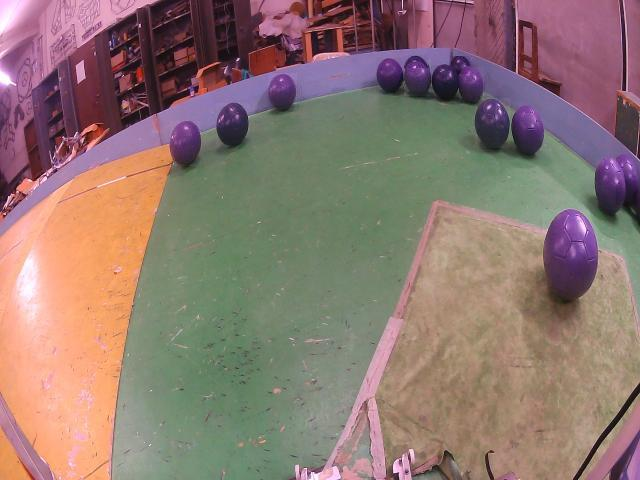jambhalya: (543, 210, 599, 300), (595, 158, 625, 215), (511, 105, 544, 155), (170, 121, 201, 166), (616, 155, 639, 205), (268, 73, 297, 110), (404, 60, 431, 96), (376, 59, 404, 92), (459, 67, 484, 103)
kaalyya: (475, 99, 510, 148), (216, 103, 249, 147), (431, 65, 459, 100), (450, 56, 470, 74), (405, 55, 428, 68)
